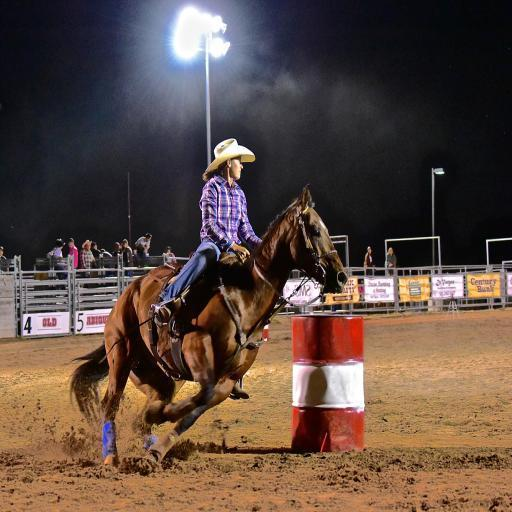horse: (68, 182, 350, 466)
